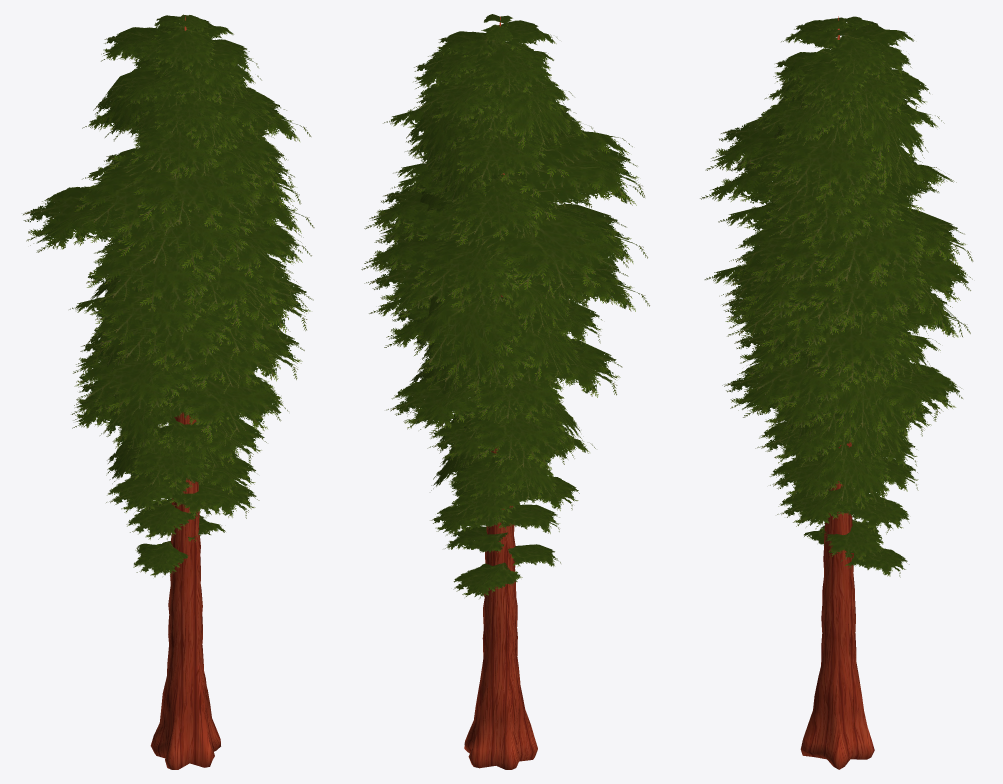
File: sq-big-3.glb
3 renders of one model, left to right at view 1: azimuth 30°, elevation 25°; view 2: azimuth 150°, elevation 25°; view 3: azimuth 270°, elevation 25°, orthographic.
Parts seen in each view (by area): view 1: sq-big-3; view 2: sq-big-3; view 3: sq-big-3.
Boxes of the visible parts, x1,y1,x2,y2 form: sq-big-3: (23, 14, 314, 769); sq-big-3: (361, 14, 649, 769); sq-big-3: (700, 16, 973, 769).
Size of the model in its own units: 15.17 by 40.02 by 14.72.
2 materials, 2 textured.
